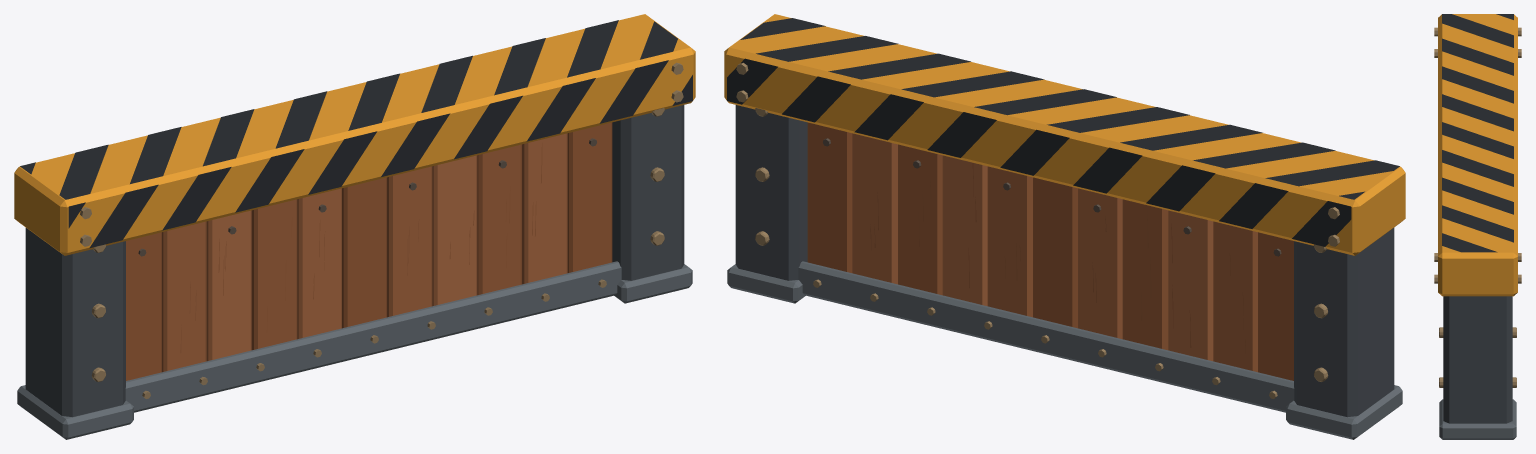
The model's file is wsc-prop-059-low-hazard-barrier.glb.
3 views of the same model, side by side, from view 1: azimuth 30°, elevation 25°; view 2: azimuth 150°, elevation 25°; view 3: azimuth 270°, elevation 25° (orthographic). The views are drawn at different scales.
Visible parts, largest first — view 1: Ochre | safety paint, Graphite | powder coat, Carbon | gasket, Gunmetal | worn arris, Timber | 0, Timber | 4, Timber | 1, Timber | 2, Timber | 3, Brass | fasteners; view 2: Ochre | safety paint, Carbon | gasket, Graphite | powder coat, Gunmetal | worn arris, Timber | 0, Timber | 4, Timber | 1, Timber | 2, Timber | 3, Brass | fasteners; view 3: Ochre | safety paint, Graphite | powder coat, Carbon | gasket, Gunmetal | worn arris, Brass | fasteners.
Part boxes in pixels (x1,y1,x2,y2): Ochre | safety paint: [14, 14, 695, 255]; Graphite | powder coat: [25, 105, 684, 417]; Carbon | gasket: [20, 20, 692, 248]; Gunmetal | worn arris: [17, 261, 692, 439]; Timber | 0: [126, 122, 612, 380]; Timber | 4: [206, 155, 477, 361]; Timber | 1: [251, 144, 521, 350]; Timber | 2: [162, 166, 432, 372]; Timber | 3: [297, 133, 567, 339]; Brass | fasteners: [80, 62, 683, 398]; Ochre | safety paint: [724, 14, 1405, 255]; Carbon | gasket: [727, 18, 1399, 246]; Graphite | powder coat: [735, 105, 1394, 417]; Gunmetal | worn arris: [727, 261, 1402, 439]; Timber | 0: [807, 122, 1293, 380]; Timber | 4: [942, 155, 1213, 361]; Timber | 1: [898, 144, 1168, 350]; Timber | 2: [987, 166, 1257, 372]; Timber | 3: [852, 133, 1122, 339]; Brass | fasteners: [736, 62, 1339, 398]; Ochre | safety paint: [1438, 14, 1517, 296]; Graphite | powder coat: [1443, 296, 1512, 423]; Carbon | gasket: [1442, 14, 1513, 252]; Gunmetal | worn arris: [1439, 399, 1516, 439]; Brass | fasteners: [1434, 27, 1521, 387].
Bounding box in the file's own units: 2.24 × 0.8107 × 0.341.
